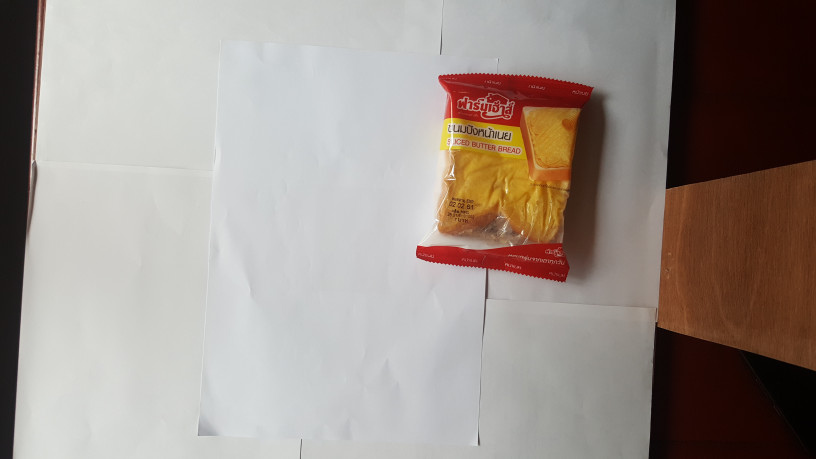farmhouse-bread-butter: (413, 61, 595, 287)
